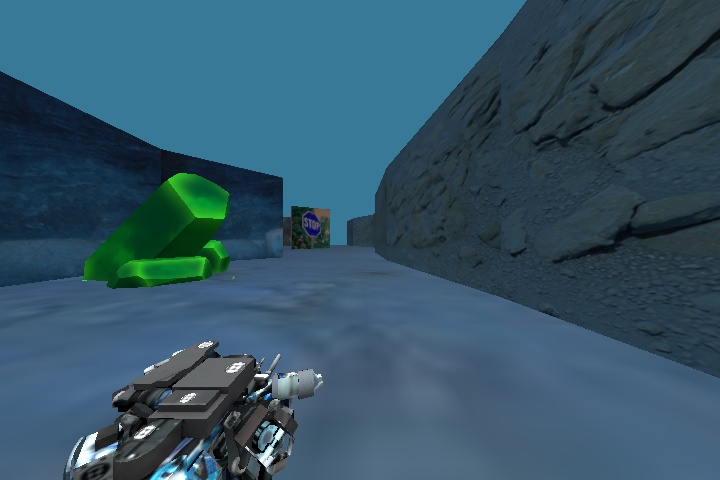green_crystal: (70, 166, 246, 299)
stop_sign: (296, 207, 328, 241)
